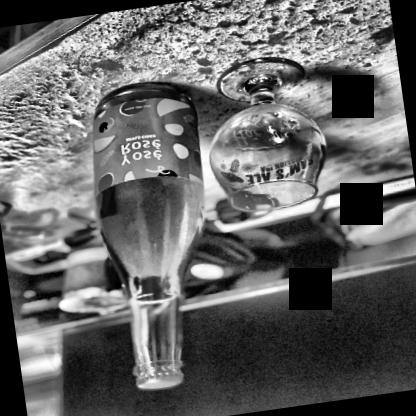yoserose: (82, 95, 206, 193)
